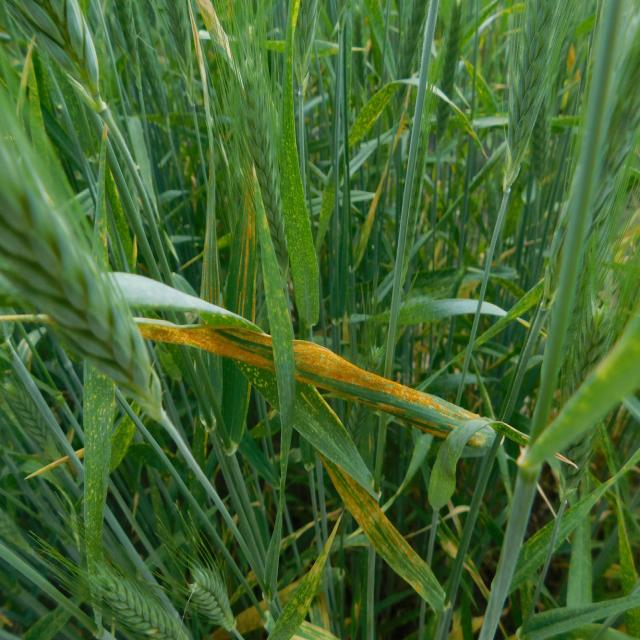wheat-yellowrust: (318, 450, 419, 573), (297, 341, 453, 412), (143, 323, 278, 375), (296, 511, 343, 619), (191, 0, 244, 80), (243, 179, 260, 325), (292, 624, 340, 640), (408, 578, 427, 597)
